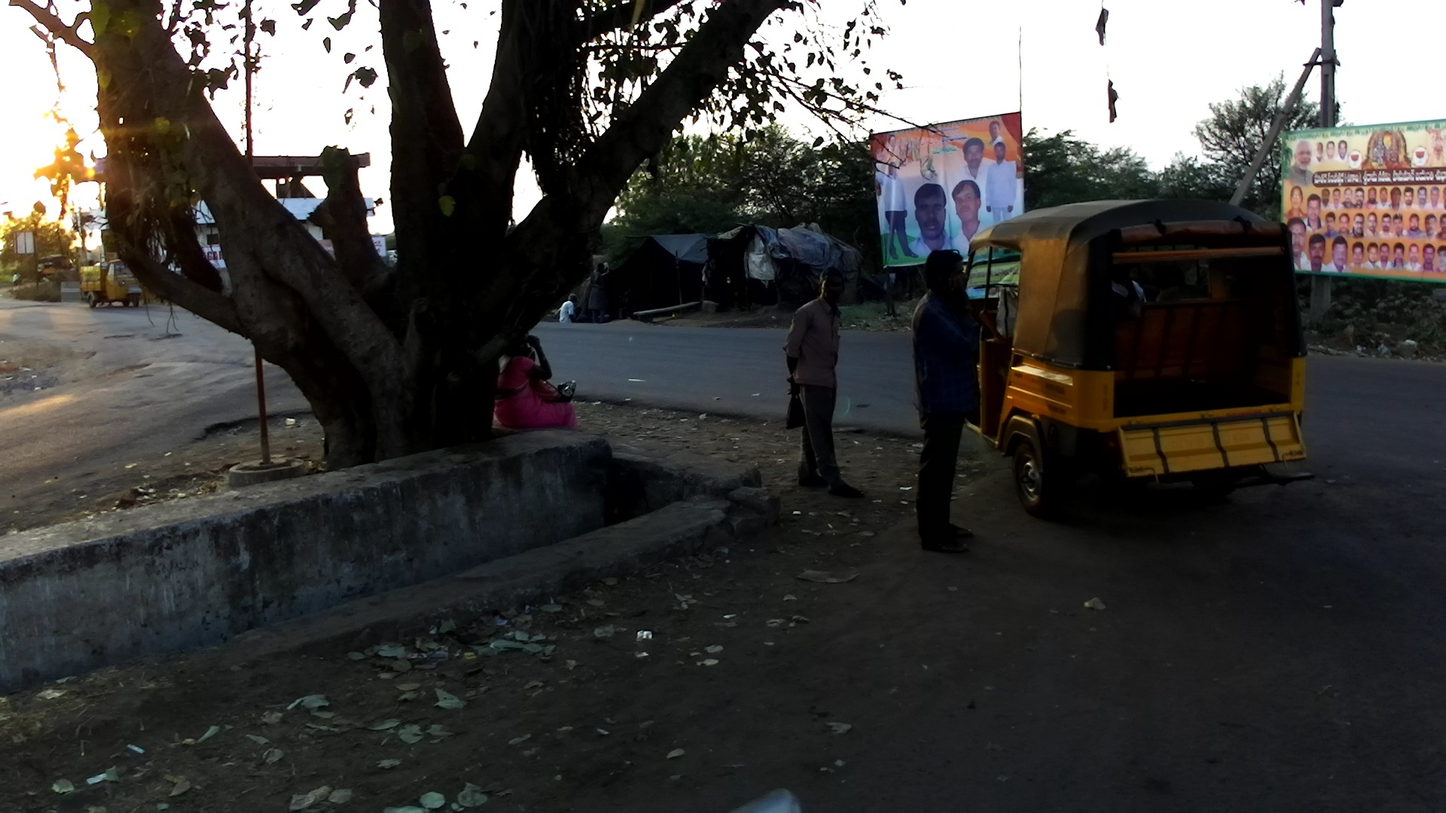autorickshaw: (959, 199, 1318, 524), (78, 251, 152, 309), (36, 255, 74, 284)
car: (386, 249, 398, 265)
person: (911, 248, 984, 556), (781, 266, 868, 500), (493, 334, 581, 431), (589, 261, 609, 323), (558, 294, 581, 323), (37, 260, 46, 284), (14, 269, 24, 288), (86, 251, 95, 266)
